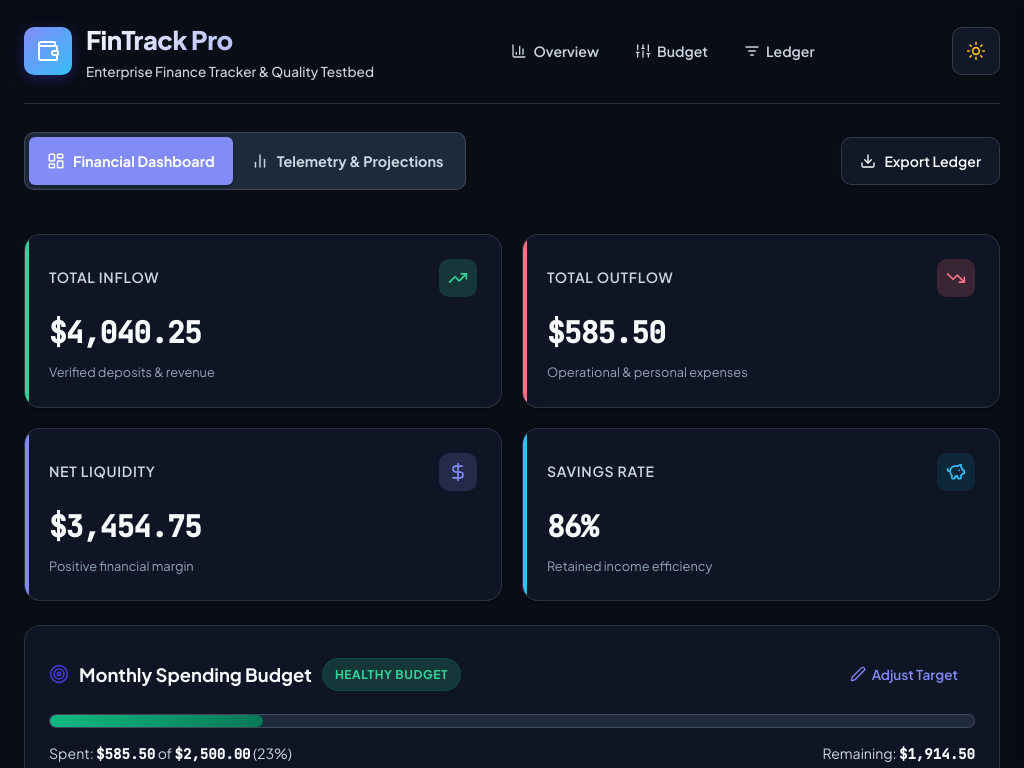
Test case: Phase 5 Verification: Performance & Accessibility Compliance › verifies switching to Telemetry & Analytics view renders cleanly without regressions
The width and height of the screenshot is (1024, 768).
Click the tab with test id "tab-analytics-btn" at point(347, 161), box [233,137,461,185]
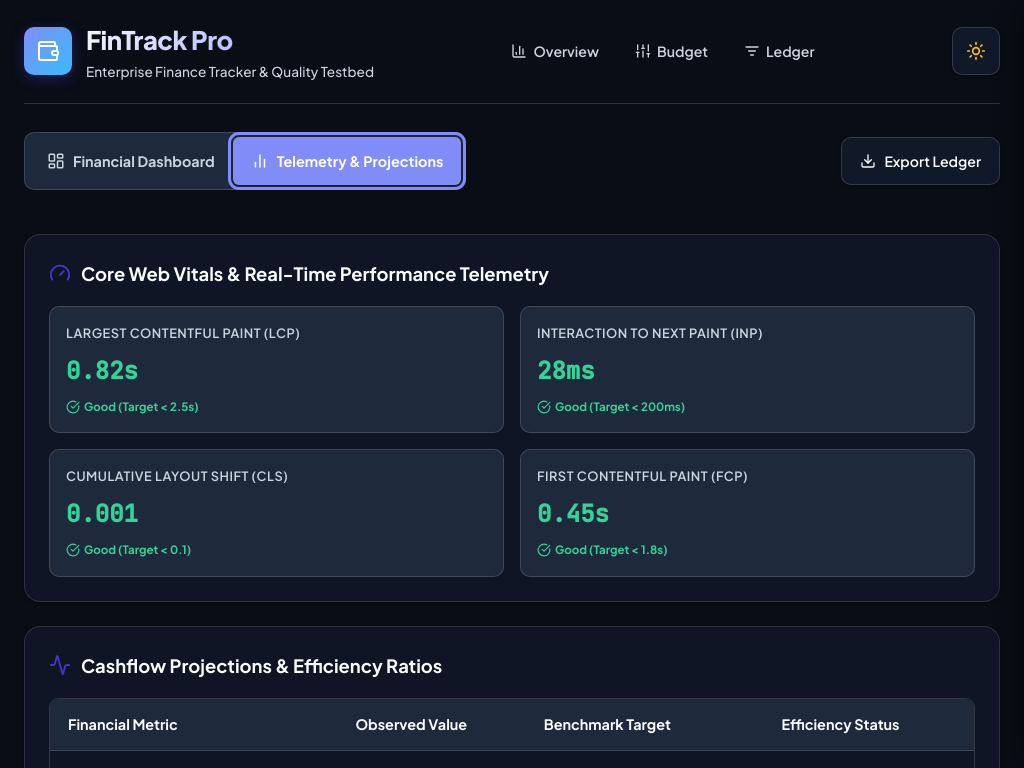
expect the text "Largest Contentful Paint (LCP)" is shown: met, box [66,325,300,341]
